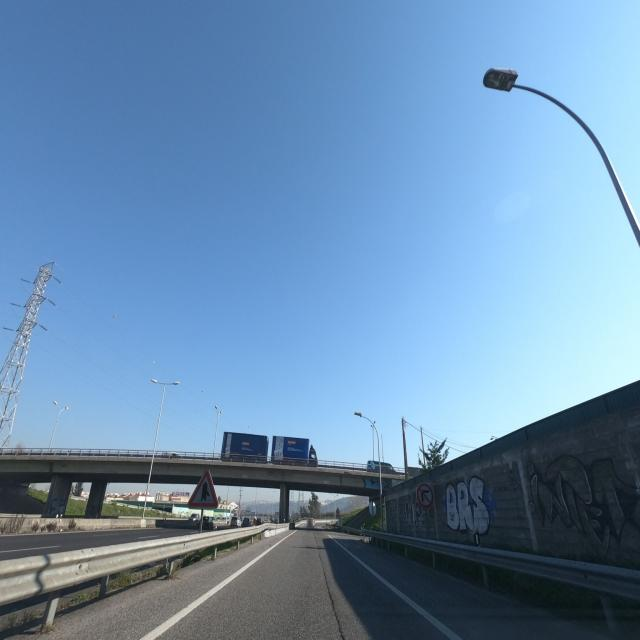car: (366, 460, 393, 470)
